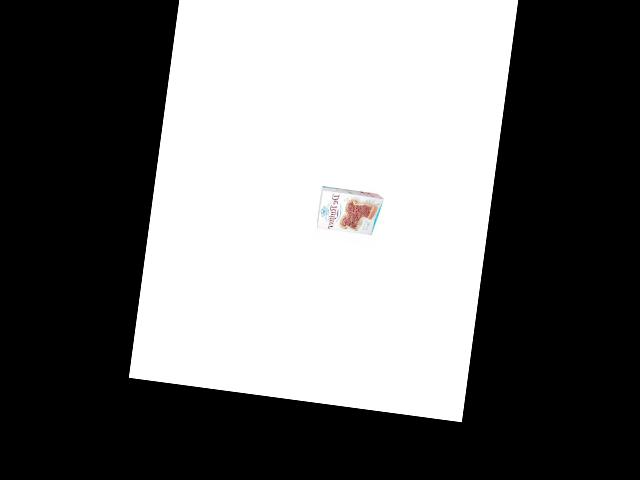chocolate: (311, 179, 383, 241)
